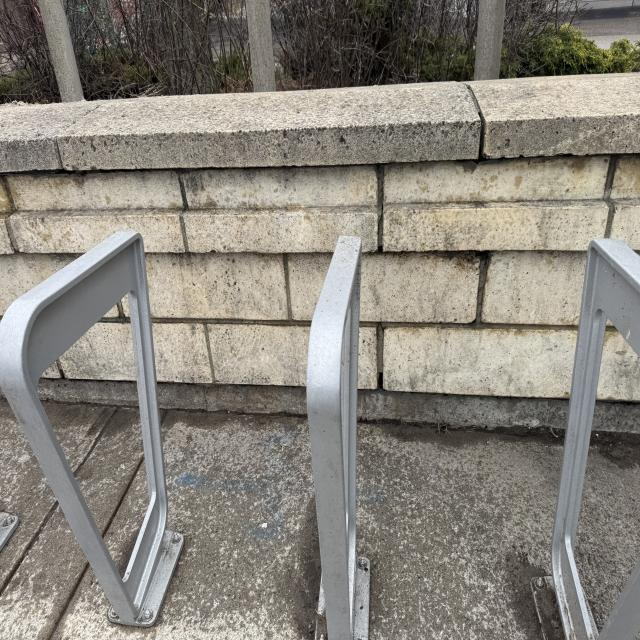Bicycle Rack: (0, 229, 172, 624), (539, 241, 640, 637), (301, 237, 373, 640)
